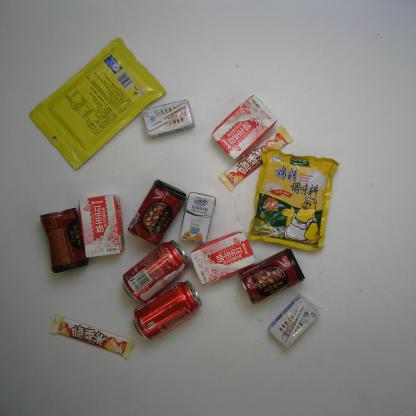Canned Food: (235, 245, 306, 306), (127, 177, 187, 249), (38, 205, 88, 276)
Chocolate: (215, 124, 294, 192), (48, 314, 136, 360)
Dried Fruit: (26, 32, 168, 170)
Drink: (120, 237, 196, 306), (131, 278, 203, 344)
Milk: (210, 93, 279, 163), (188, 227, 256, 286), (76, 192, 128, 262), (266, 293, 323, 350), (140, 97, 196, 142), (177, 189, 217, 247)
Seasoner: (246, 146, 340, 254)
